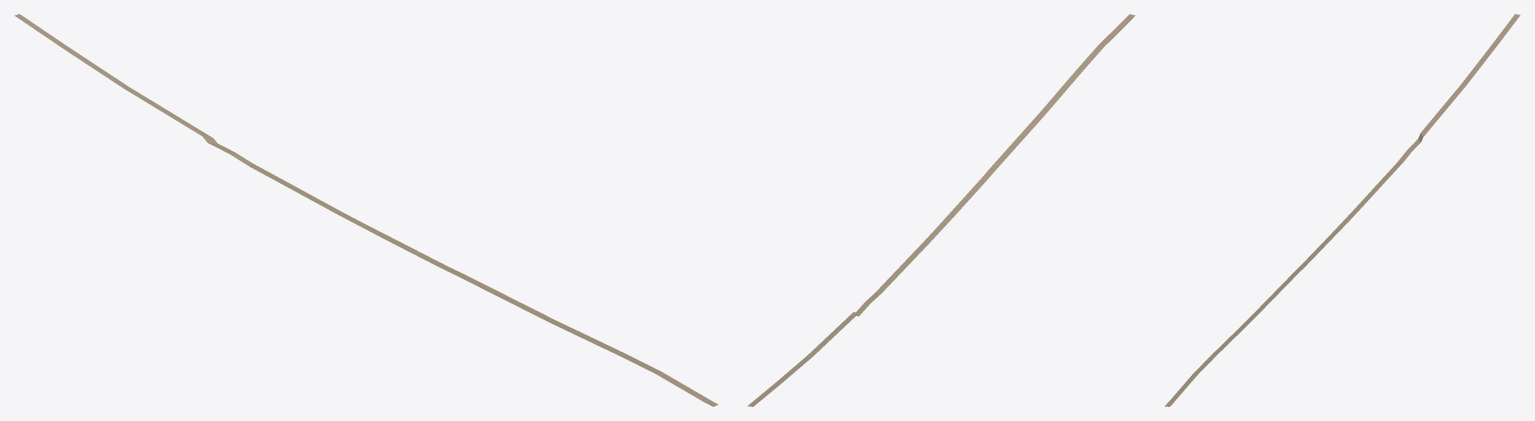
Rendered from farm_27_19_track.glb.
3 views of the same model, side by side, from view 1: azimuth 30°, elevation 25°; view 2: azimuth 150°, elevation 25°; view 3: azimuth 330°, elevation 25° (orthographic). The views are drawn at different scales.
Parts seen in each view (by area): view 1: geometry_0; view 2: geometry_0; view 3: geometry_0.
Boxes of the visible parts, x1,y1,x2,y2 form: geometry_0: (14,14,718,406); geometry_0: (747,14,1135,406); geometry_0: (1164,14,1520,406).
Bounding box in the file's own units: 81.47 × 14.06 × 526.
